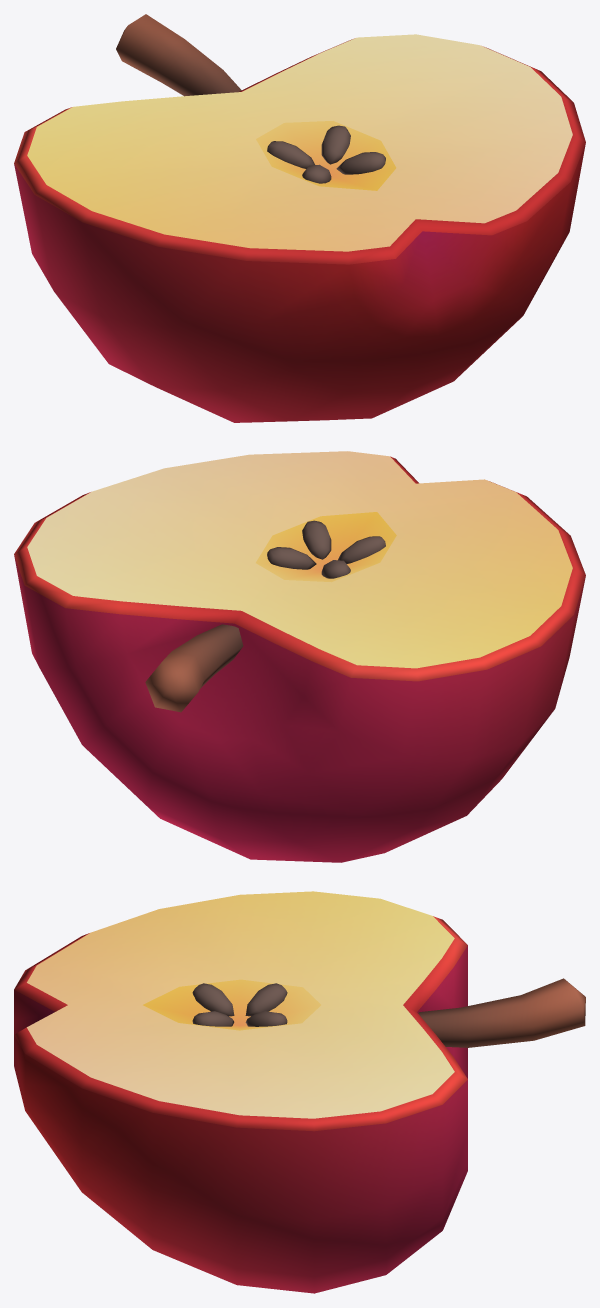
File: apple_004.fbx
The picture shows the model from 3 angles, top to bottom: view 1: azimuth 30°, elevation 25°; view 2: azimuth 150°, elevation 25°; view 3: azimuth 270°, elevation 25°; orthographic projection. The views are drawn at different scales.
Parts seen in each view (by area): view 1: apple_004; view 2: apple_004; view 3: apple_004.
Boxes of the visible parts, <box> form: apple_004: <box>14,14,585,422</box>; apple_004: <box>14,451,585,862</box>; apple_004: <box>14,891,585,1293</box>.
Size of the model in its own units: 9.82 by 9.97 by 5.34.
